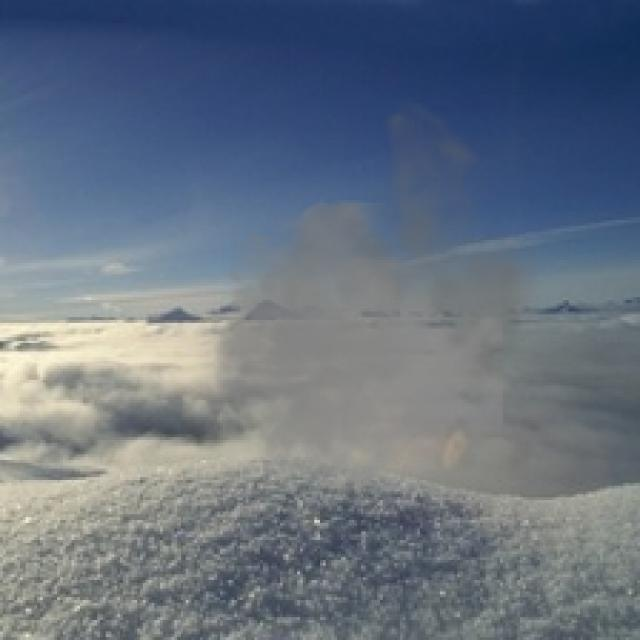Smoke: (188, 94, 546, 497)
